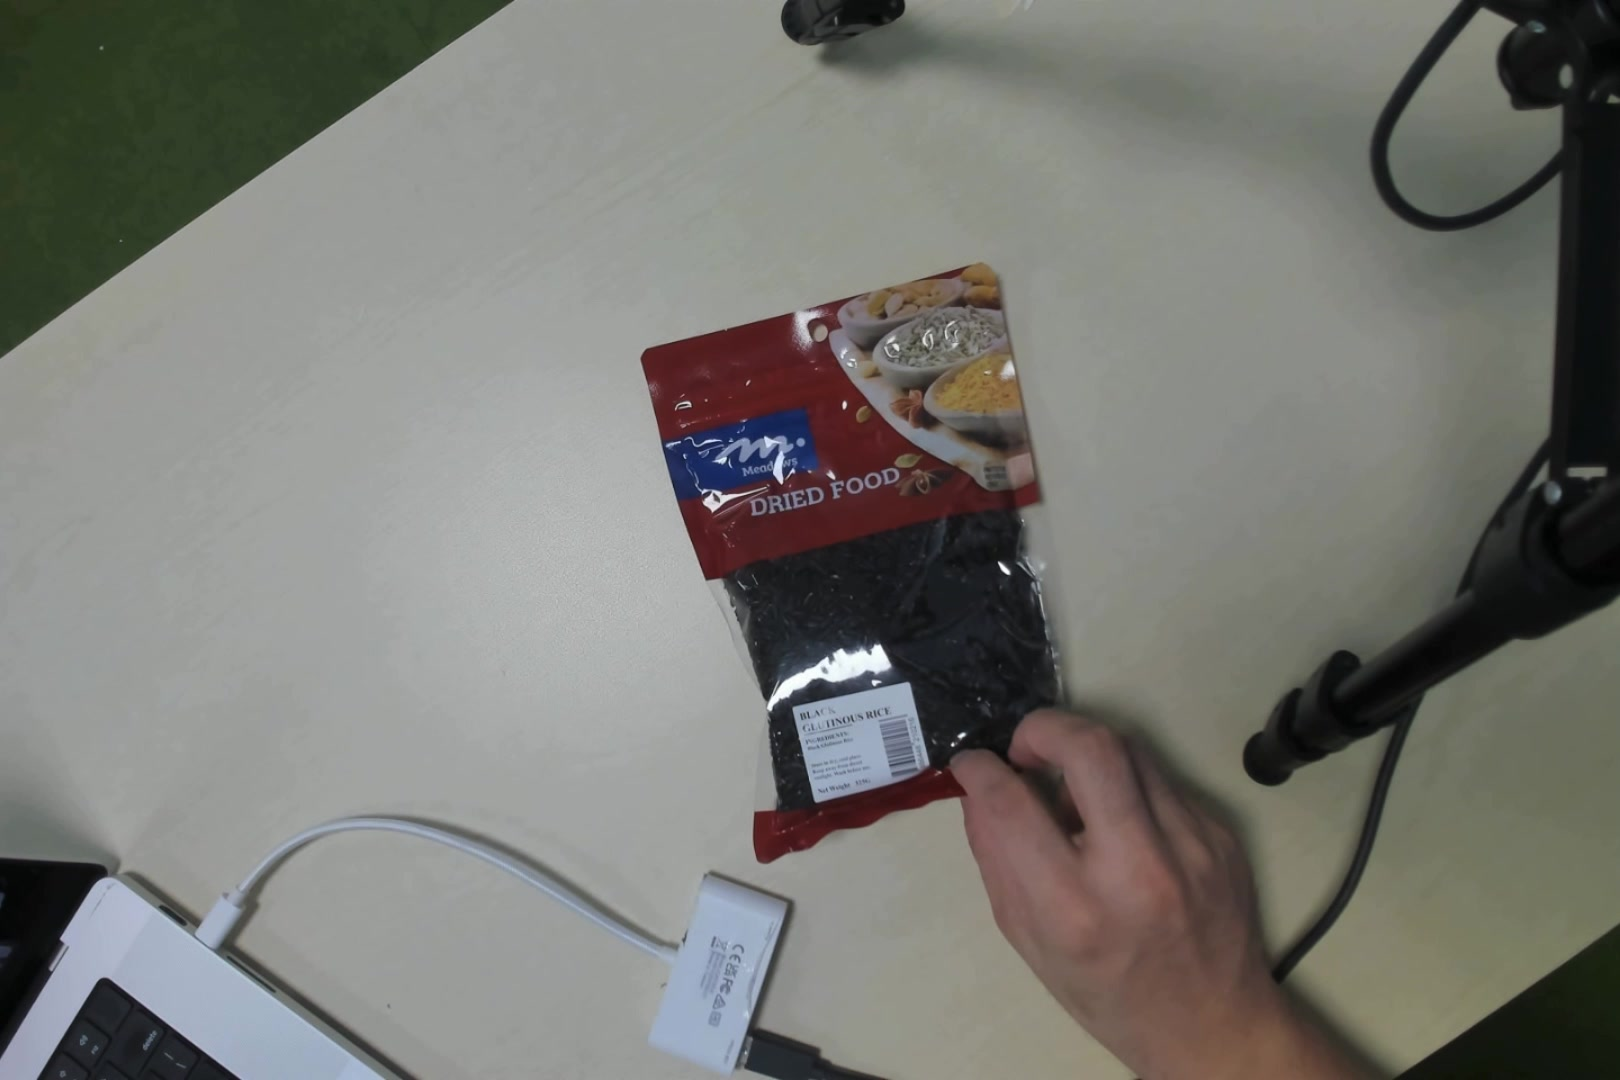OtherDriedFood_100-199g_NonHalal_NonHealthy: (679, 260, 1076, 826)
